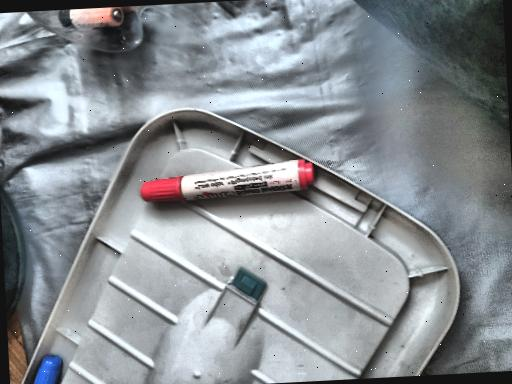marcador rojo: (140, 159, 314, 202)
